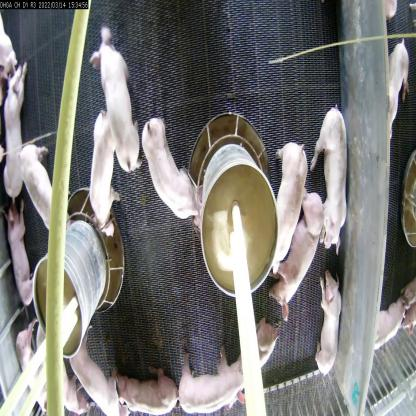Pig: (92, 19, 142, 176), (140, 117, 206, 221), (305, 107, 350, 252), (270, 194, 320, 317), (169, 348, 247, 415), (66, 336, 128, 416), (271, 136, 306, 275), (217, 317, 277, 394), (0, 61, 28, 203), (20, 146, 59, 235), (312, 275, 342, 375), (90, 115, 113, 235), (118, 371, 178, 415), (8, 219, 36, 312)
